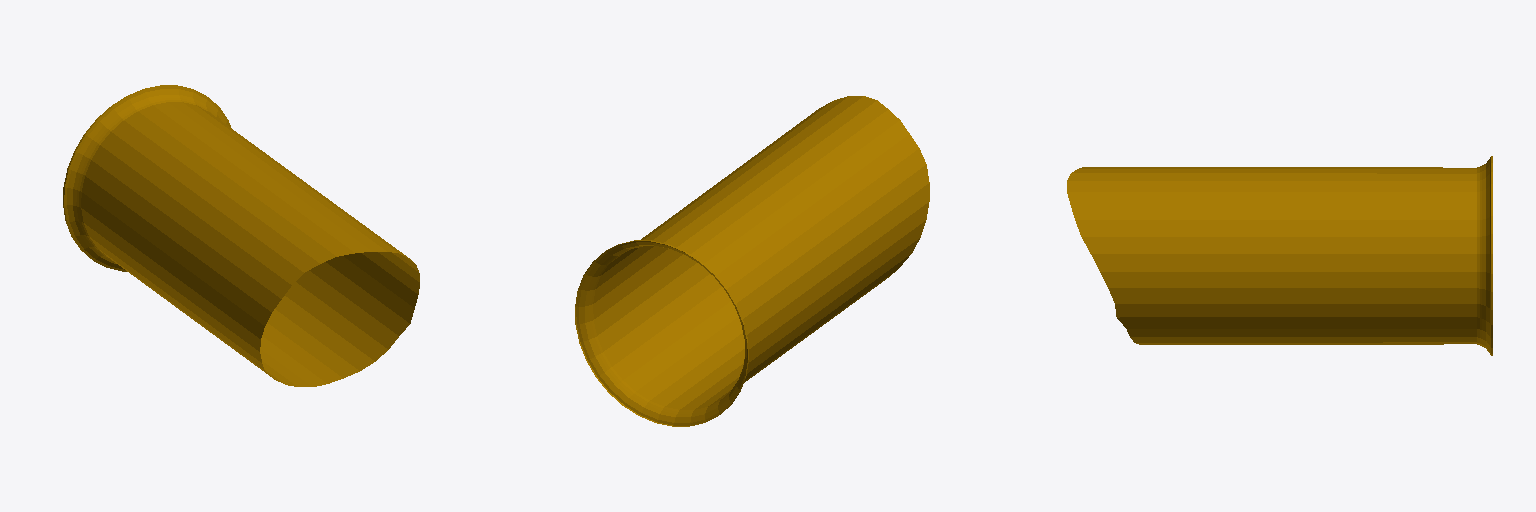
3 views of the same model, side by side, from view 1: azimuth 30°, elevation 25°; view 2: azimuth 150°, elevation 25°; view 3: azimuth 270°, elevation 25° (orthographic).
Parts seen in each view (by area): view 1: SF105; view 2: SF105; view 3: SF105.
Boxes of the visible parts, <box> form: SF105: <box>63,85,419,386</box>; SF105: <box>575,96,929,426</box>; SF105: <box>1067,156,1492,355</box>.
Bounding box in the file's own units: 0.7633 × 0.7633 × 1.63.